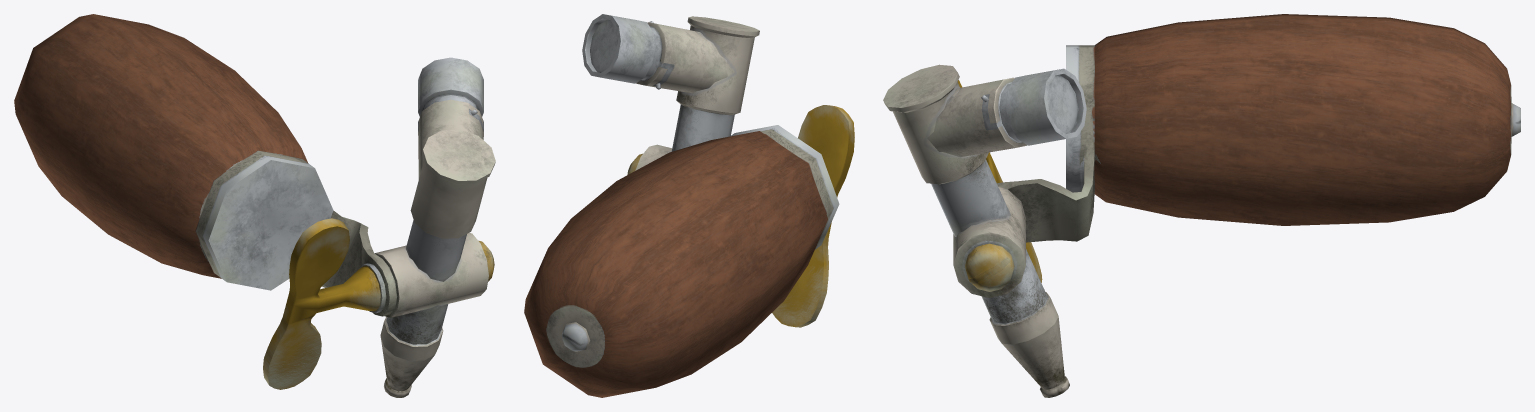
The model's file is fluvial.glb.
3 views of the same model, side by side, from view 1: azimuth 30°, elevation 25°; view 2: azimuth 150°, elevation 25°; view 3: azimuth 270°, elevation 25° (orthographic). The views are drawn at different scales.
Visible parts, largest first — view 1: fluvial main, fluvial tap; view 2: fluvial main, fluvial tap; view 3: fluvial main, fluvial tap.
Boxes of the visible parts, x1=… form: fluvial main: x1=14, y1=14, x2=495, y2=397; fluvial tap: x1=263, y1=218, x2=494, y2=389; fluvial main: x1=524, y1=14, x2=839, y2=397; fluvial tap: x1=627, y1=105, x2=854, y2=327; fluvial main: x1=883, y1=14, x2=1520, y2=397; fluvial tap: x1=957, y1=80, x2=1042, y2=291.
Size of the model in its own units: 0.0715 by 0.0753 by 0.1235.
Materials: 1 (1 with a texture image).
